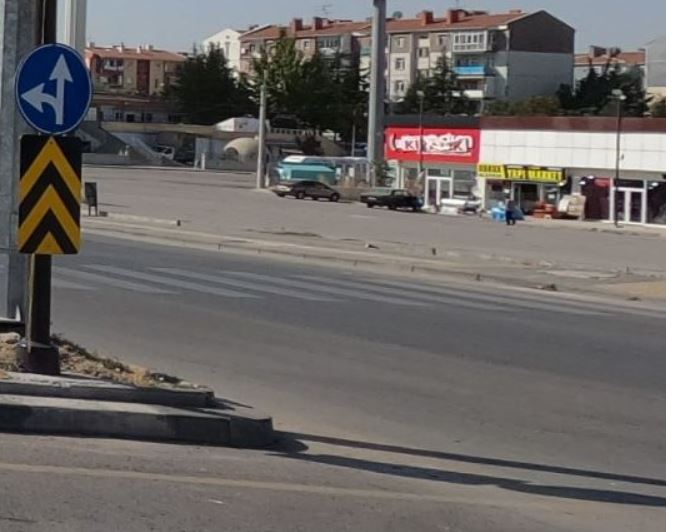ileri ve Sola Mecburi Don: (12, 38, 102, 132)
